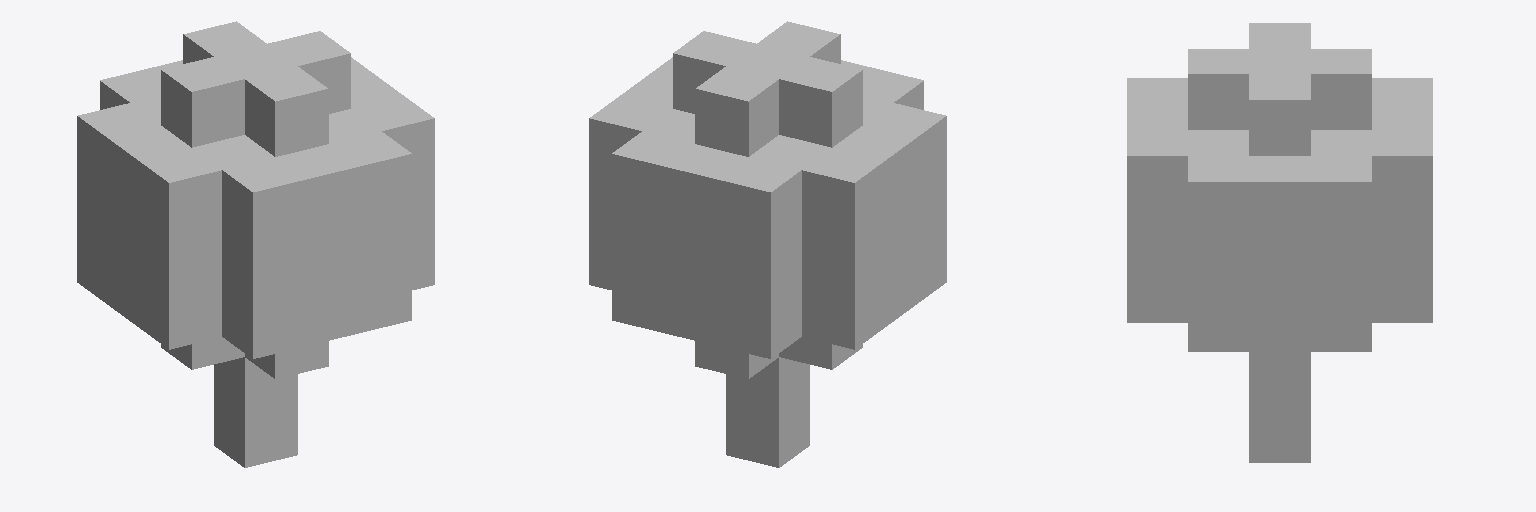
Rendered from Oak_0.obj.
The picture shows the model from 3 angles: view 1: azimuth 30°, elevation 25°; view 2: azimuth 150°, elevation 25°; view 3: azimuth 270°, elevation 25°; orthographic projection.
Parts seen in each view (by area): view 1: _(2)__0_-60_5_to_5_319_9; view 2: _(2)__0_-60_5_to_5_319_9; view 3: _(2)__0_-60_5_to_5_319_9.
Part boxes in pixels (left/top/right/bottom): _(2)__0_-60_5_to_5_319_9: left=77, top=21, right=434, bottom=467; _(2)__0_-60_5_to_5_319_9: left=589, top=21, right=946, bottom=467; _(2)__0_-60_5_to_5_319_9: left=1127, top=23, right=1432, bottom=462.
Bounding box in the file's own units: 5 × 7 × 5.